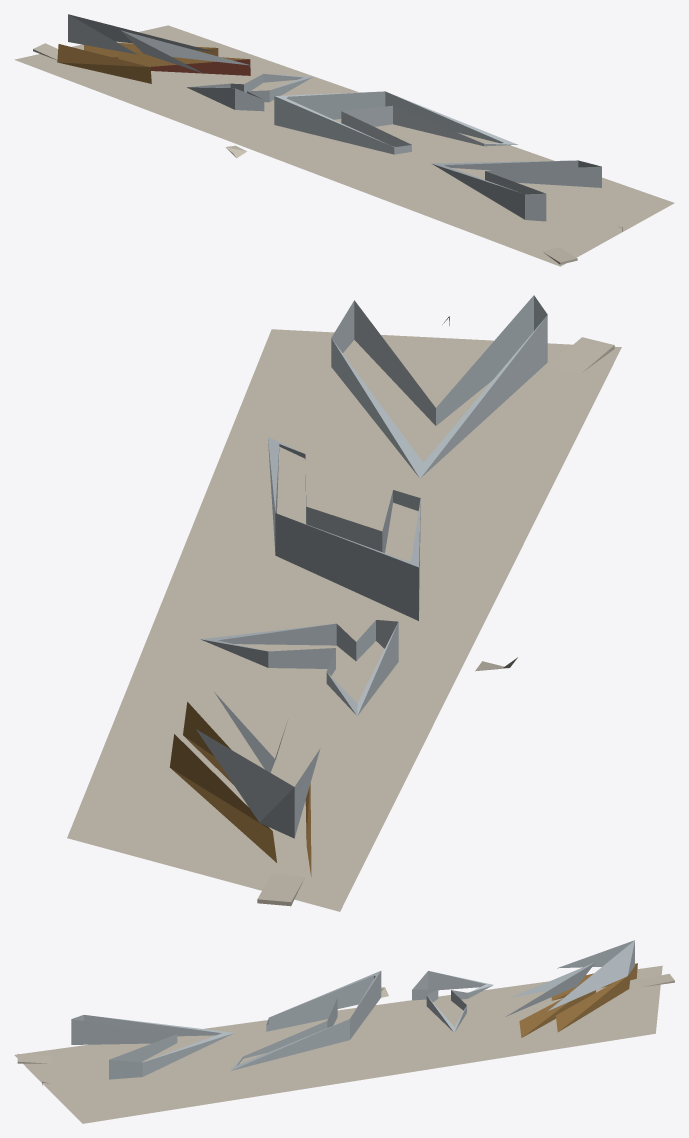
The model's file is holocaust-namenmonument.lod2.glb.
3 views of the same model, one above another, from view 1: azimuth 30°, elevation 25°; view 2: azimuth 150°, elevation 25°; view 3: azimuth 270°, elevation 25° (orthographic). The views are drawn at different scales.
Parts seen in each view (by area): view 1: lod2; view 2: lod2; view 3: lod2.
Boxes of the visible parts, x1=… form: lod2: x1=14, y1=14, x2=674, y2=266; lod2: x1=67, y1=295, x2=621, y2=911; lod2: x1=14, y1=940, x2=674, y2=1123.
Bounding box in the file's own units: 49.92 × 6.55 × 88.14.
